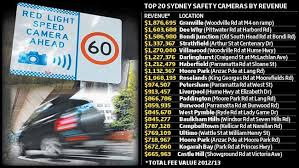sp60: (78, 27, 124, 75)
